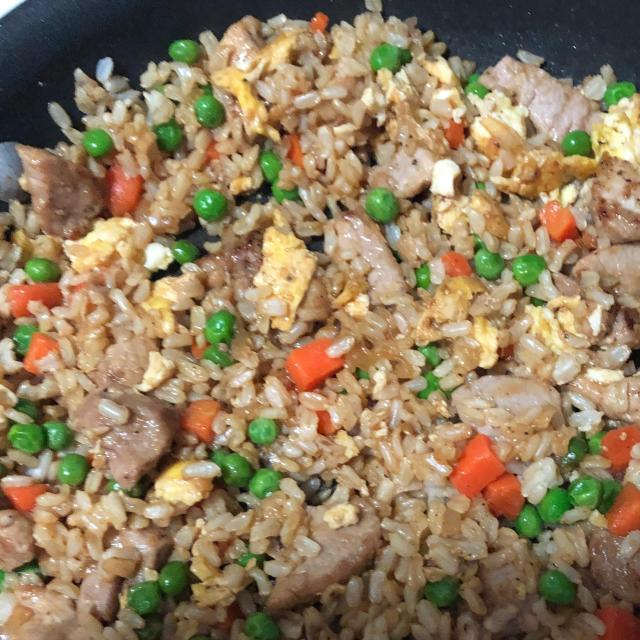Nasi Goreng: (3, 4, 637, 636)
